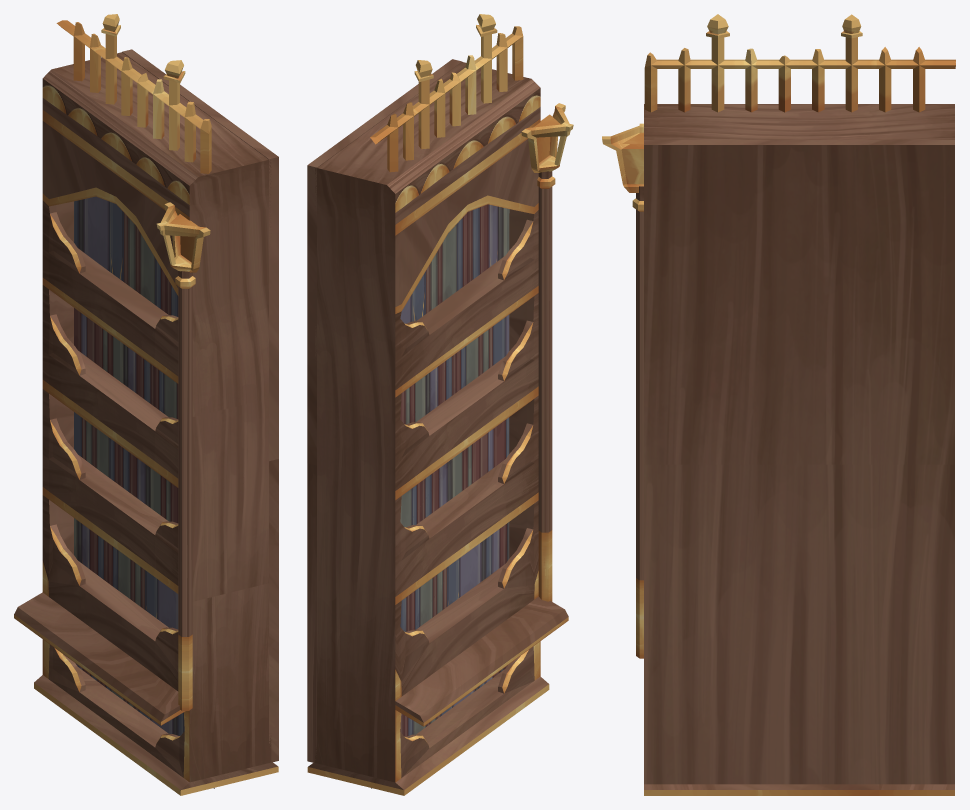
File: A_Bookcase (4) 1.fbx
The picture shows the model from 3 angles, left to right: view 1: azimuth 30°, elevation 25°; view 2: azimuth 150°, elevation 25°; view 3: azimuth 270°, elevation 25°; orthographic projection. The views are drawn at different scales.
Parts seen in each view (by area): view 1: Merged.002; view 2: Merged.002; view 3: Merged.002.
Boxes of the visible parts, x1,y1,x2,y2 form: Merged.002: (14, 14, 278, 795); Merged.002: (307, 14, 573, 795); Merged.002: (602, 14, 955, 795).
Bounding box in the file's own units: 61.66 × 343 × 148.
